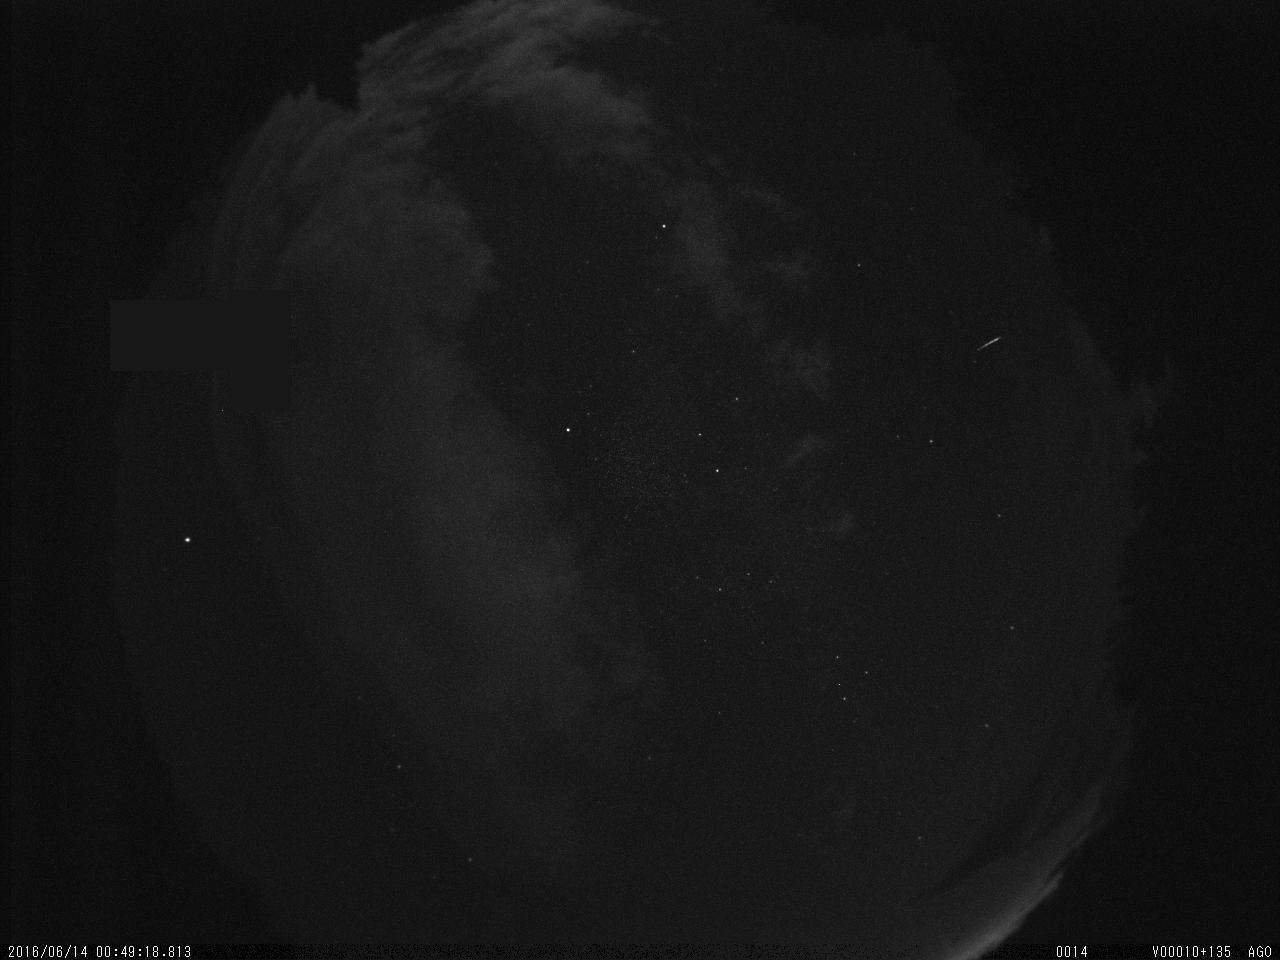Meteor: (975, 332, 1004, 354)
